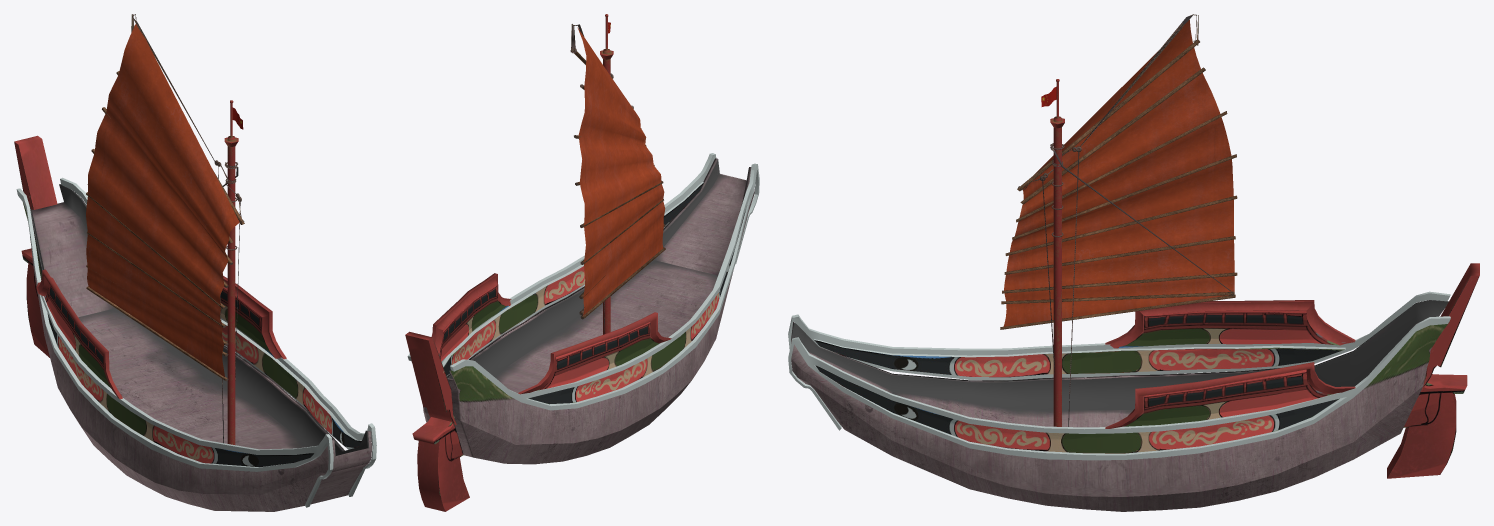
File: boat02.fbx
3 views of the same model, side by side, from view 1: azimuth 30°, elevation 25°; view 2: azimuth 150°, elevation 25°; view 3: azimuth 270°, elevation 25° (orthographic). The views are drawn at different scales.
Parts seen in each view (by area): view 1: pCube14, boat_02_sail; view 2: pCube14, boat_02_sail; view 3: pCube14, boat_02_sail.
Boxes of the visible parts, box(x1,y1,x2,y2) form: pCube14: box(14, 135, 376, 511); boat_02_sail: box(86, 14, 244, 444); pCube14: box(405, 153, 759, 511); boat_02_sail: box(570, 14, 665, 334); pCube14: box(788, 263, 1479, 511); boat_02_sail: box(1000, 14, 1237, 426).
Size of the model in its own units: 776 by 1885 by 2634.
2 materials, 2 textured.
